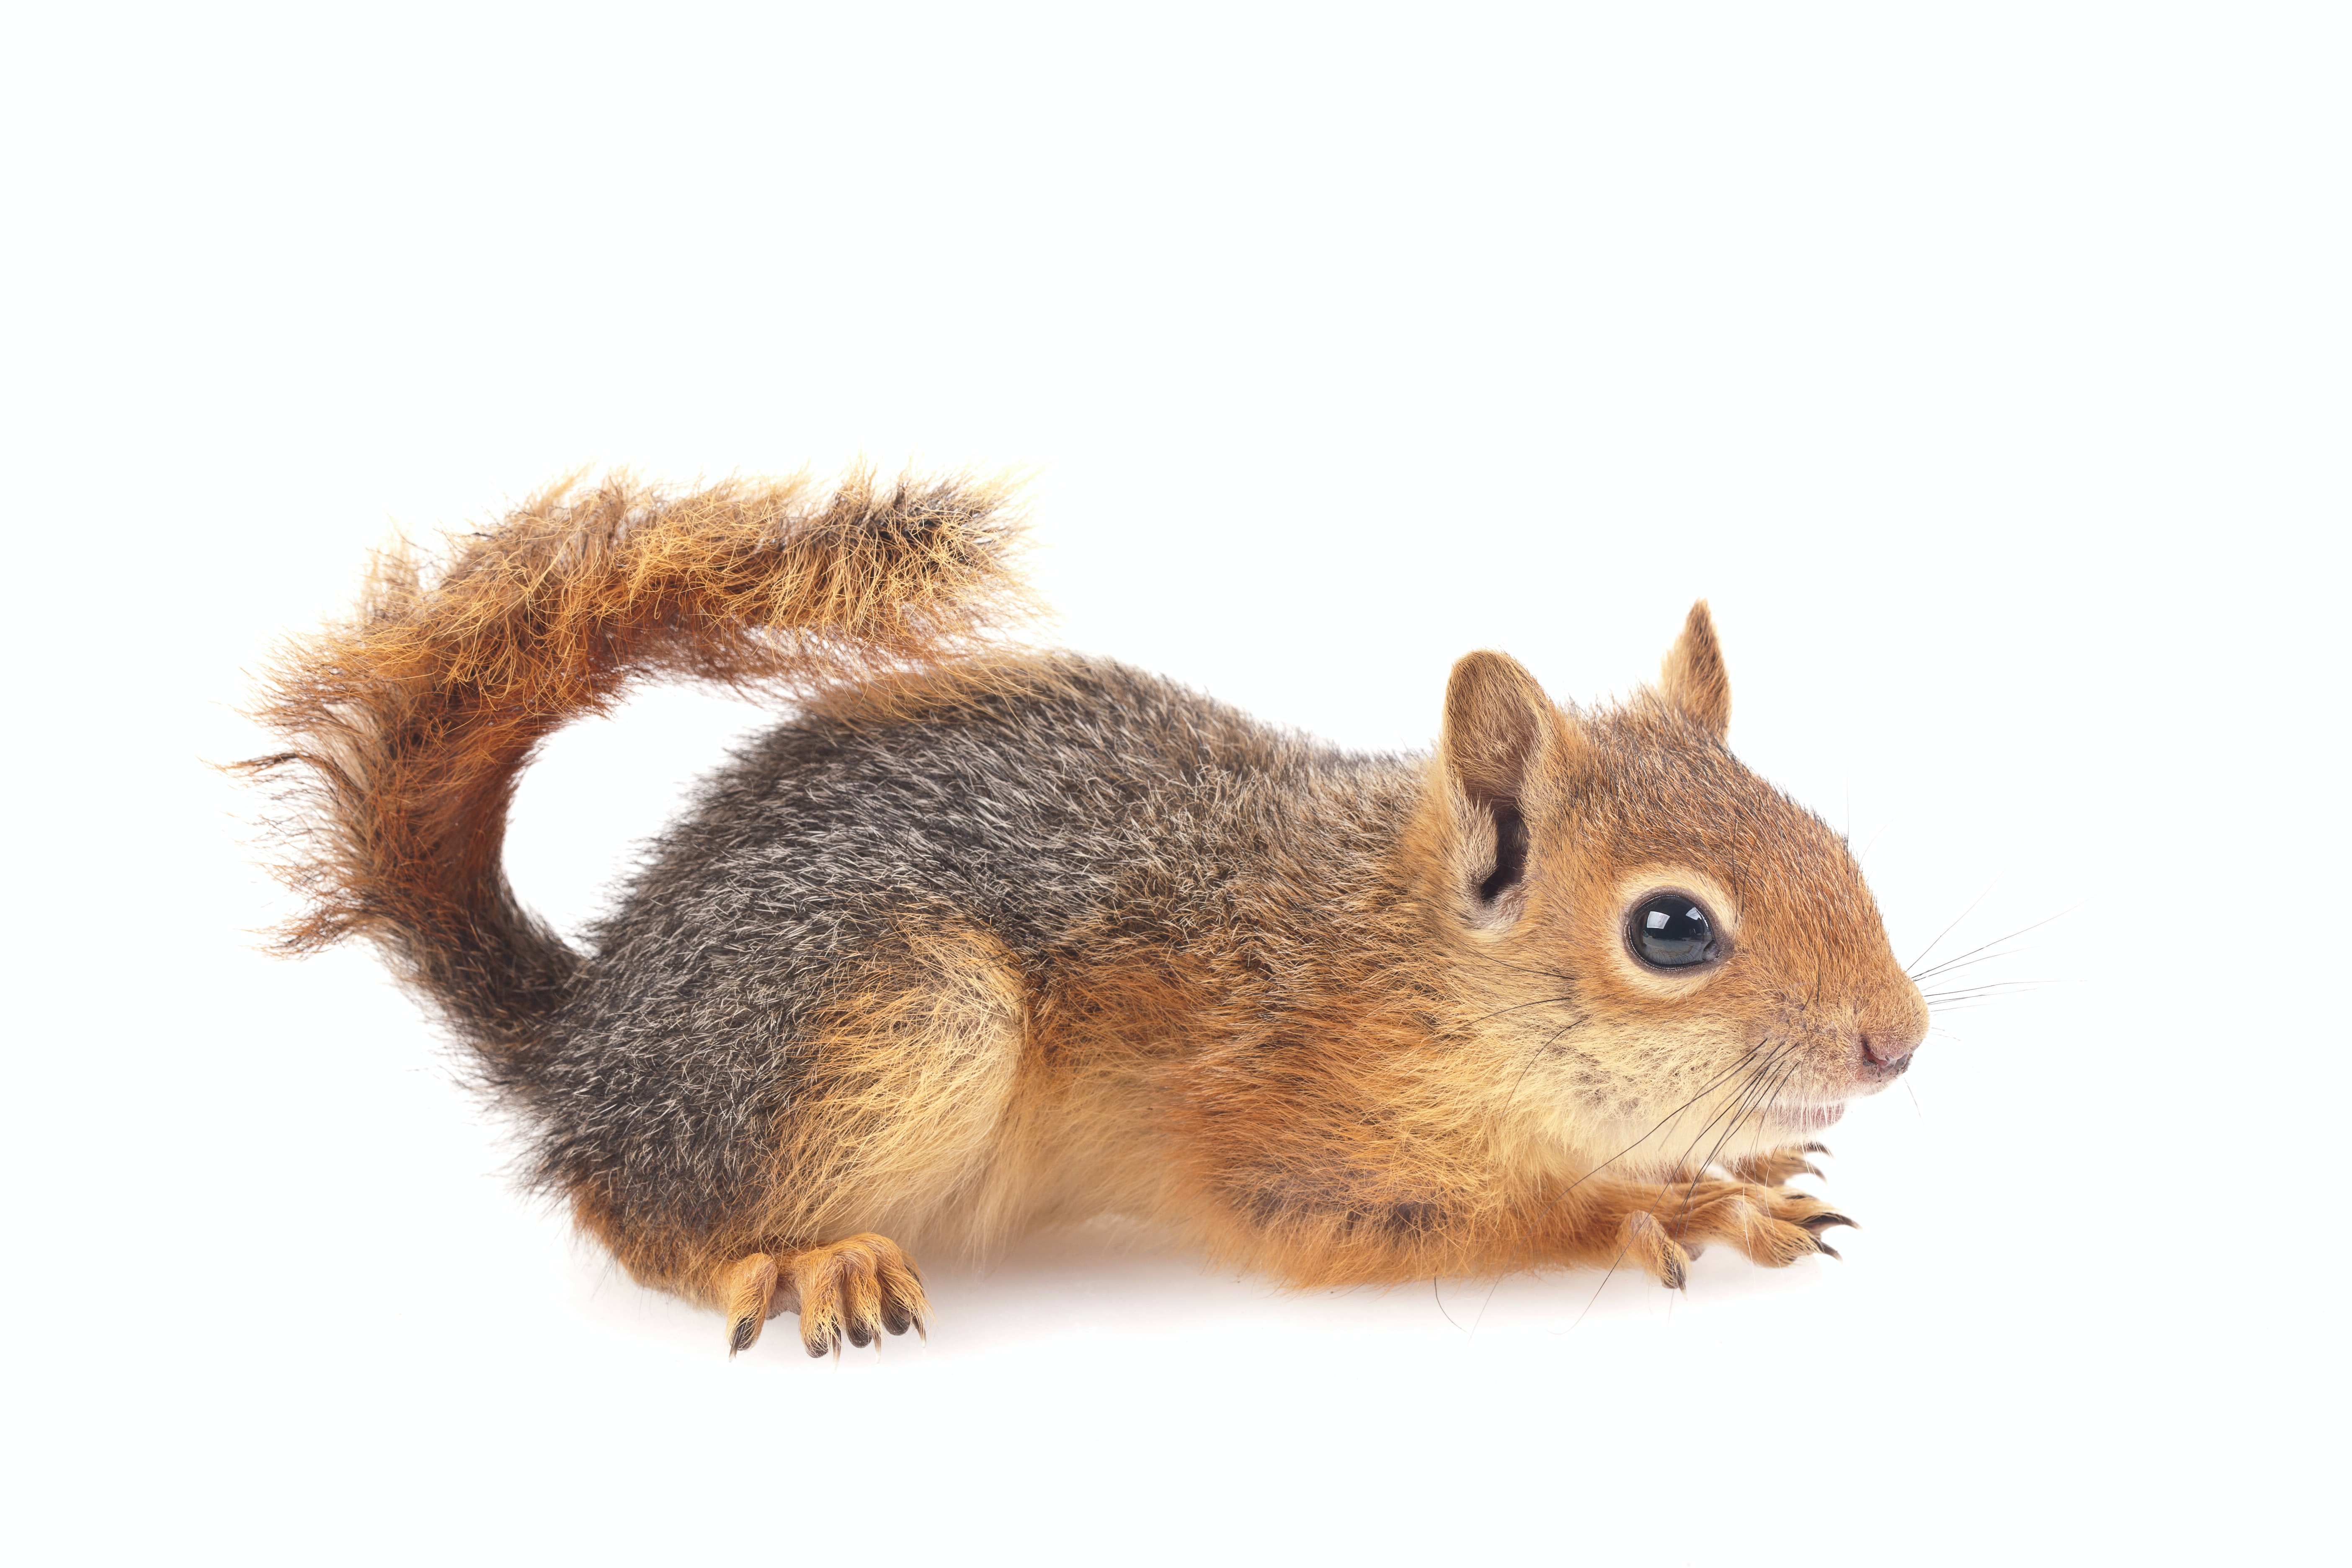squirrel: (278, 469, 1932, 1361)
